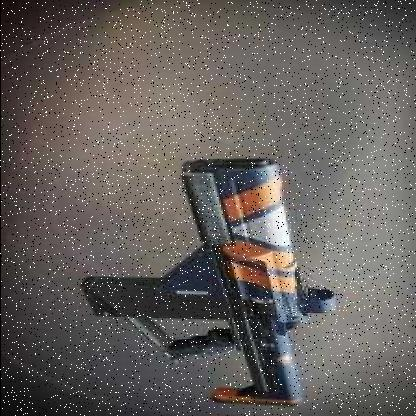rifle: (90, 138, 334, 411)
